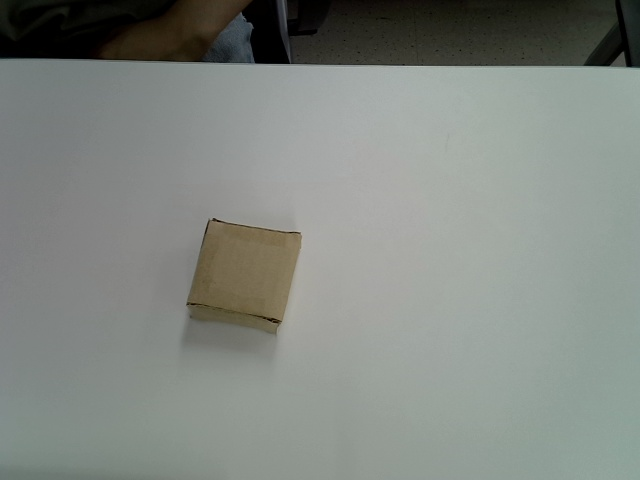normal: (186, 216, 303, 334)
